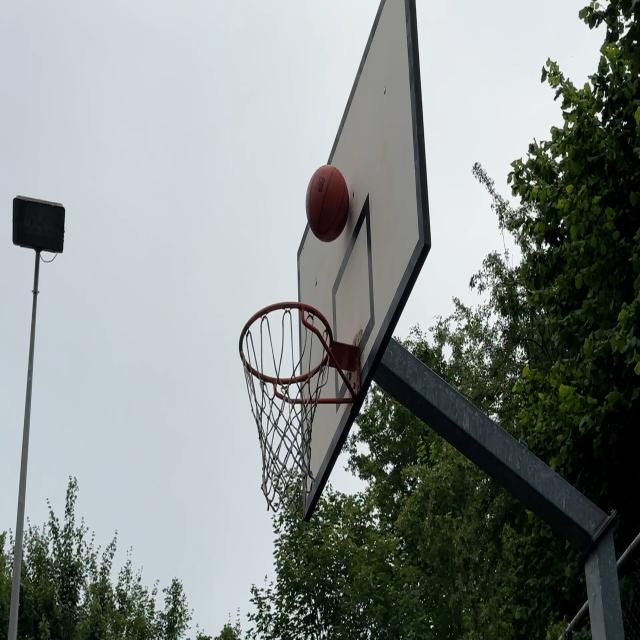rebound_hit: (306, 162, 355, 243)
